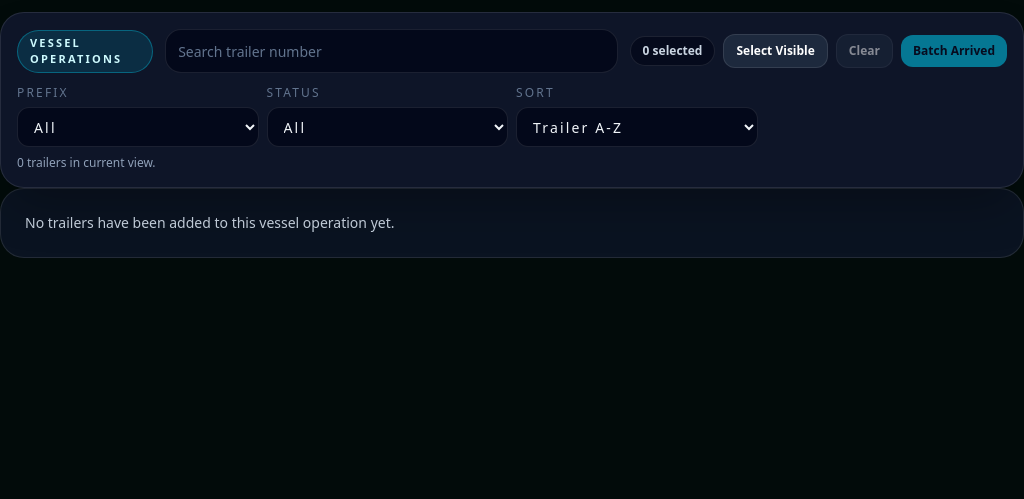
Test: VesselTrailerList trailer check action › does not show Trailer Check on a completed inspection
Select "Completed" in the dropdown labelled "Status". click: (387, 127)
box: [266,107,508,147]
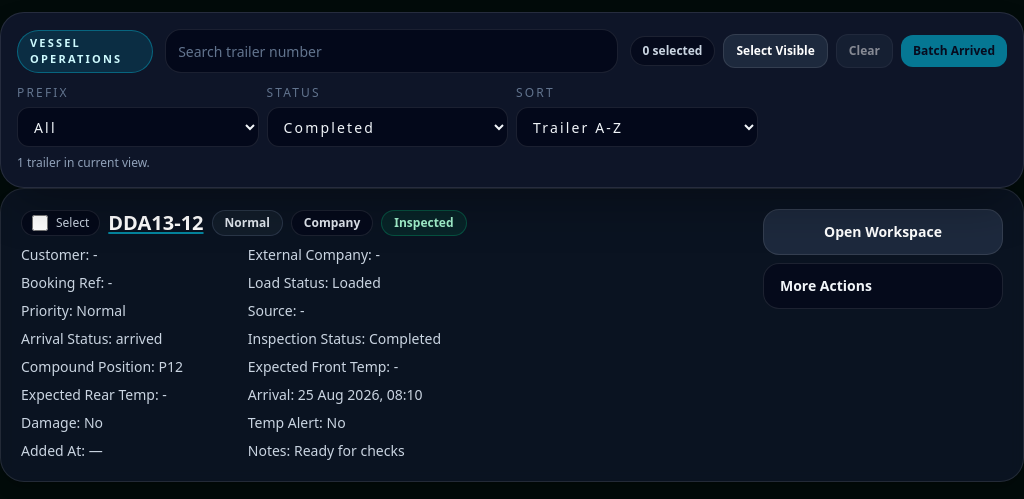
Result: the link "DDA13-12" is shown at [108,209,204,236]
Result: the button "Open Workspace" is shown at [763,209,1003,255]
